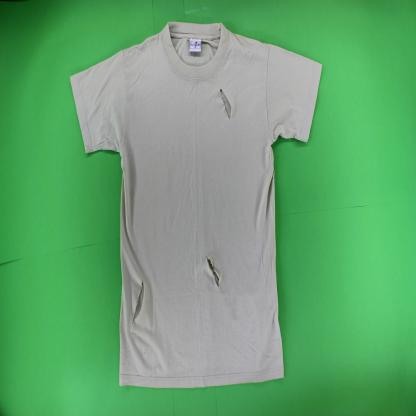hole: (131, 280, 146, 325), (205, 255, 221, 289), (218, 88, 233, 122)
